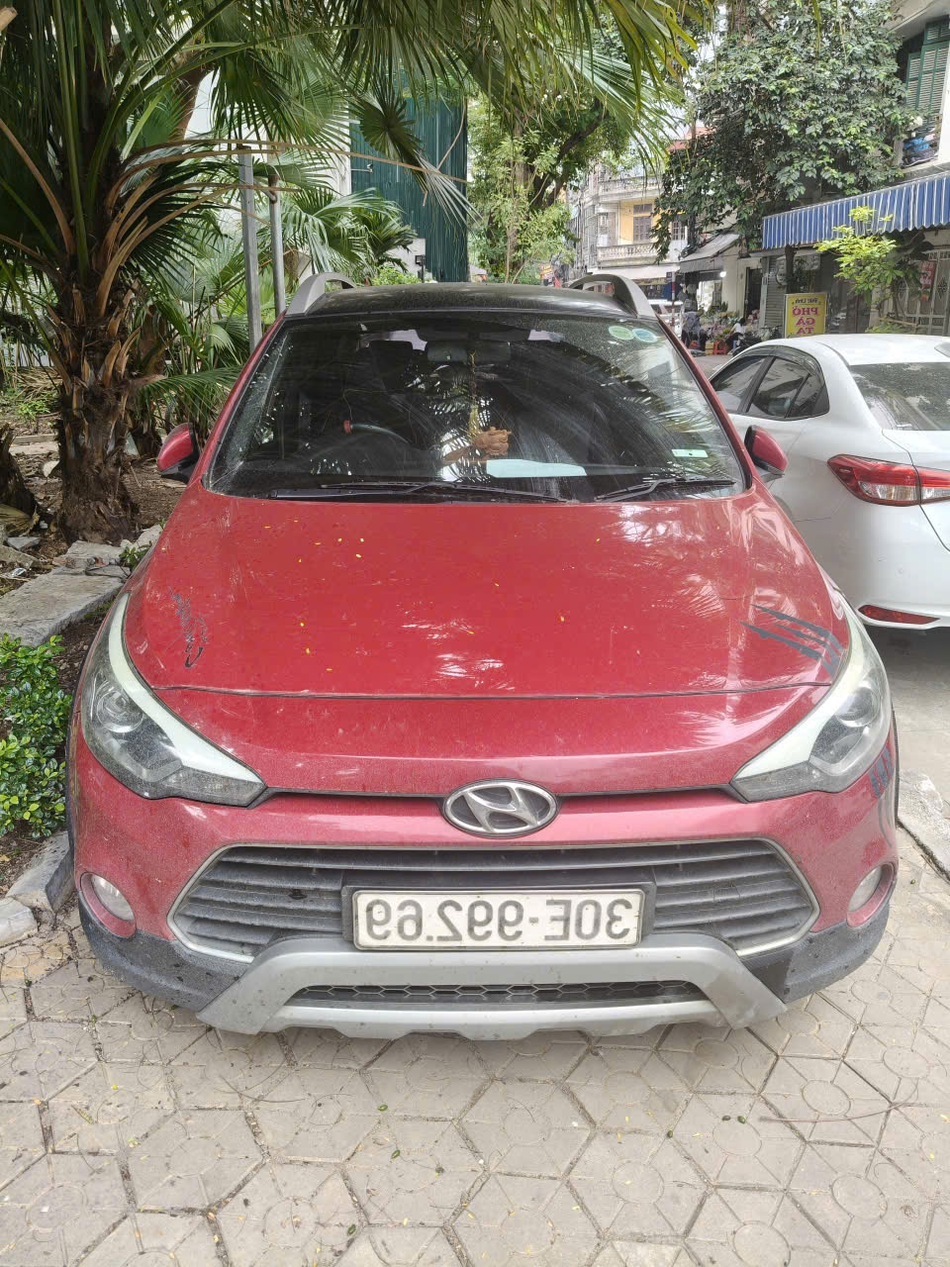plate: (649, 889, 816, 921)
